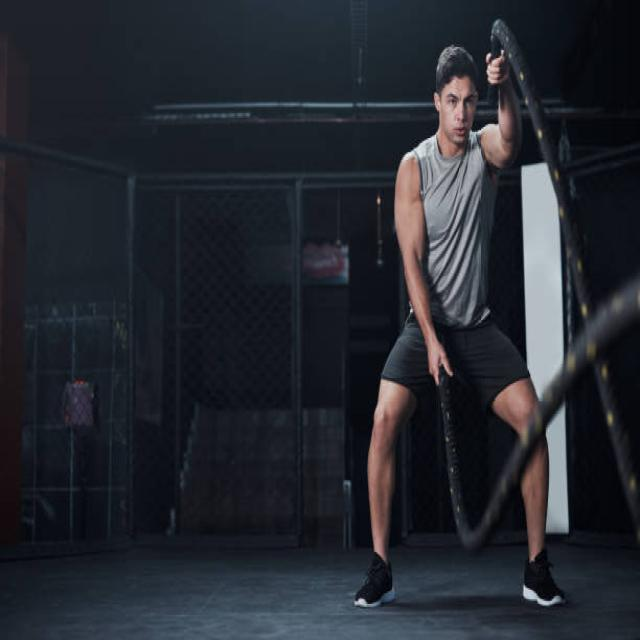no_helmet: (424, 135, 476, 196)
